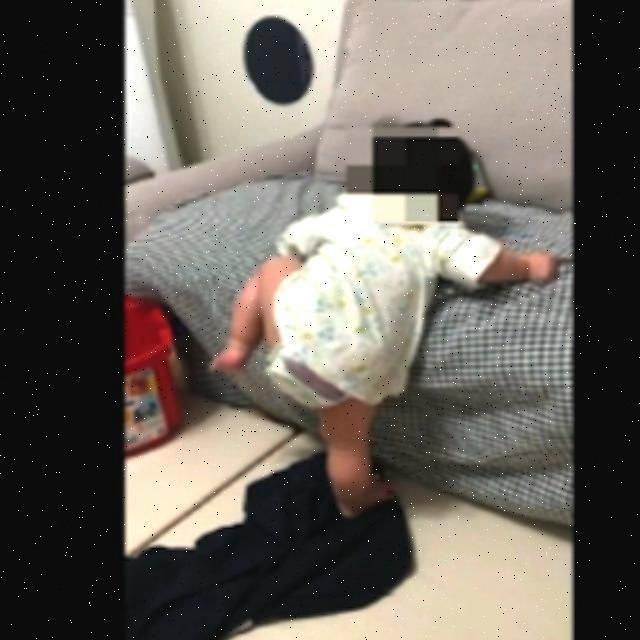child: (210, 119, 553, 521)
